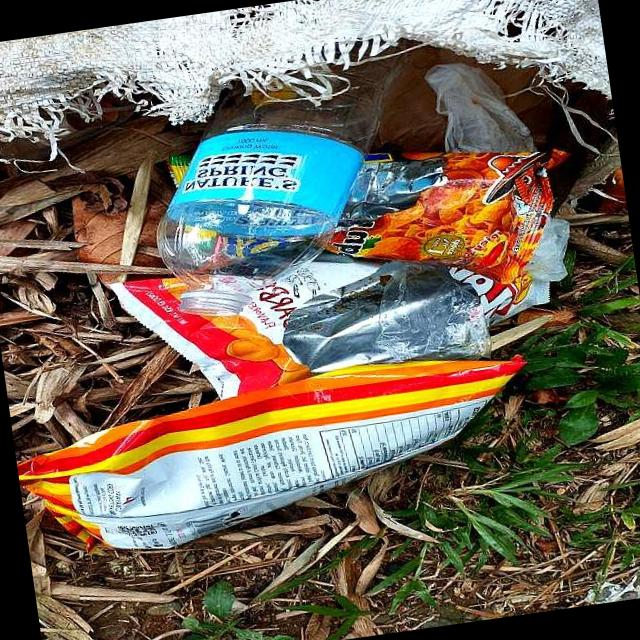Non-biodegradable: (90, 62, 576, 410), (13, 358, 544, 569), (136, 42, 446, 322)
